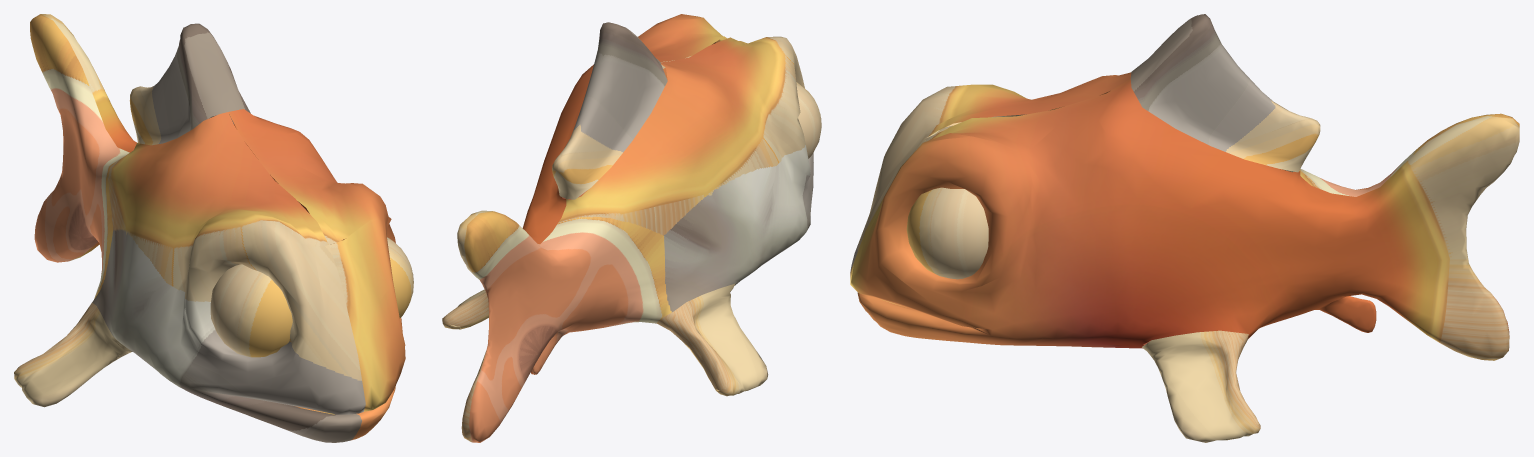
The model's file is Low Poly FISH.fbx.
The picture shows the model from 3 angles, left to right: view 1: azimuth 30°, elevation 25°; view 2: azimuth 150°, elevation 25°; view 3: azimuth 270°, elevation 25°; orthographic projection. The views are drawn at different scales.
Parts seen in each view (by area): view 1: Object_2; view 2: Object_2; view 3: Object_2.
Boxes of the visible parts, x1,y1,x2,y2 form: Object_2: [14, 14, 413, 442]; Object_2: [442, 14, 821, 442]; Object_2: [850, 14, 1519, 442].
Bounding box in the file's own units: 260 × 265 × 462.
1 material, 1 textured.
